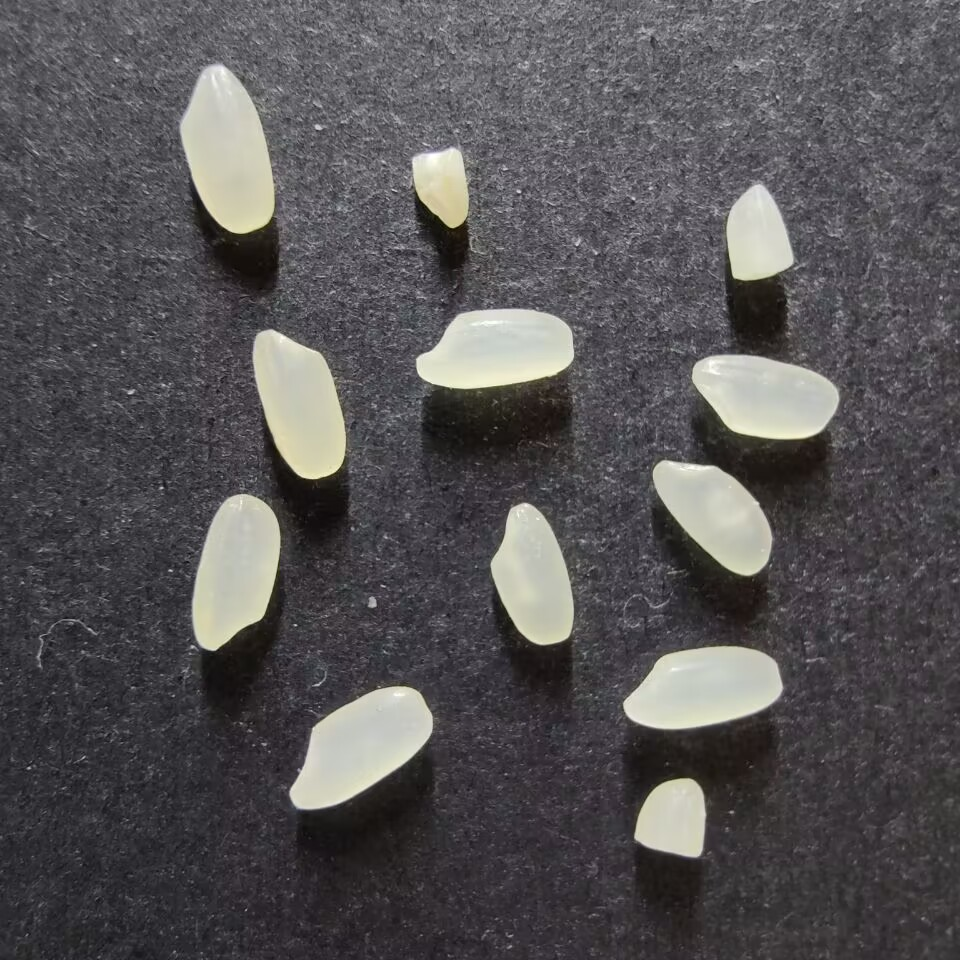broken: (725, 183, 794, 281), (633, 777, 706, 858), (411, 147, 468, 228)
rice: (288, 685, 433, 810), (179, 64, 275, 234), (190, 493, 281, 651), (651, 459, 772, 576), (252, 329, 346, 479), (622, 645, 782, 730), (415, 308, 573, 389), (690, 354, 839, 439), (490, 502, 573, 645)
